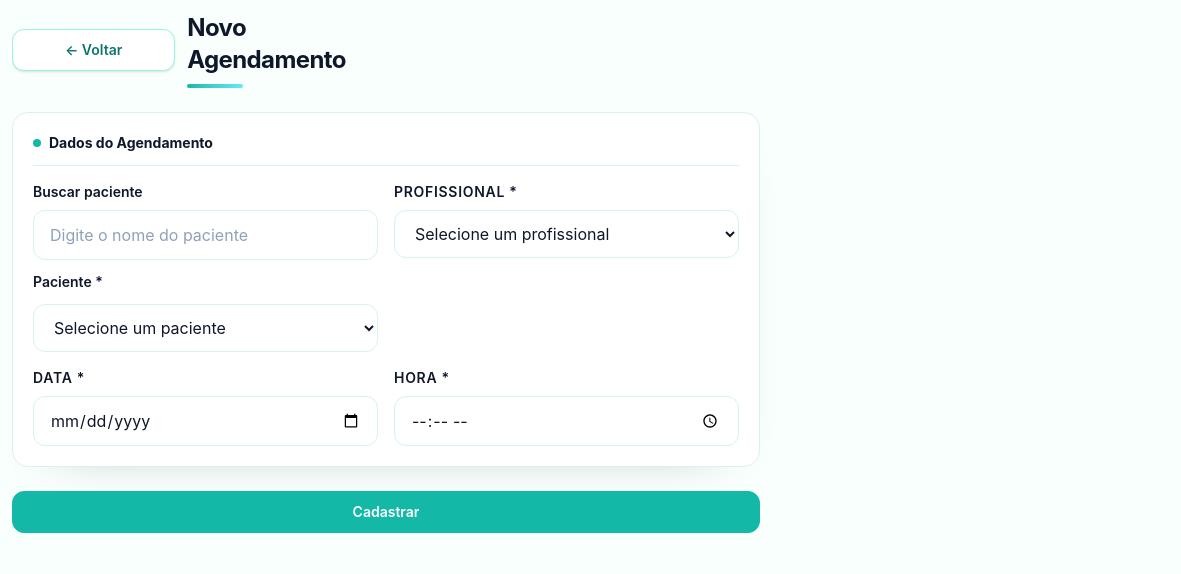
Test: avisa sobre horário ocupado antes de enviar o agendamento
Select "Dra. Ana" in the dropdown labelled "Profissional *": [566, 234] box [394,210,739,258]
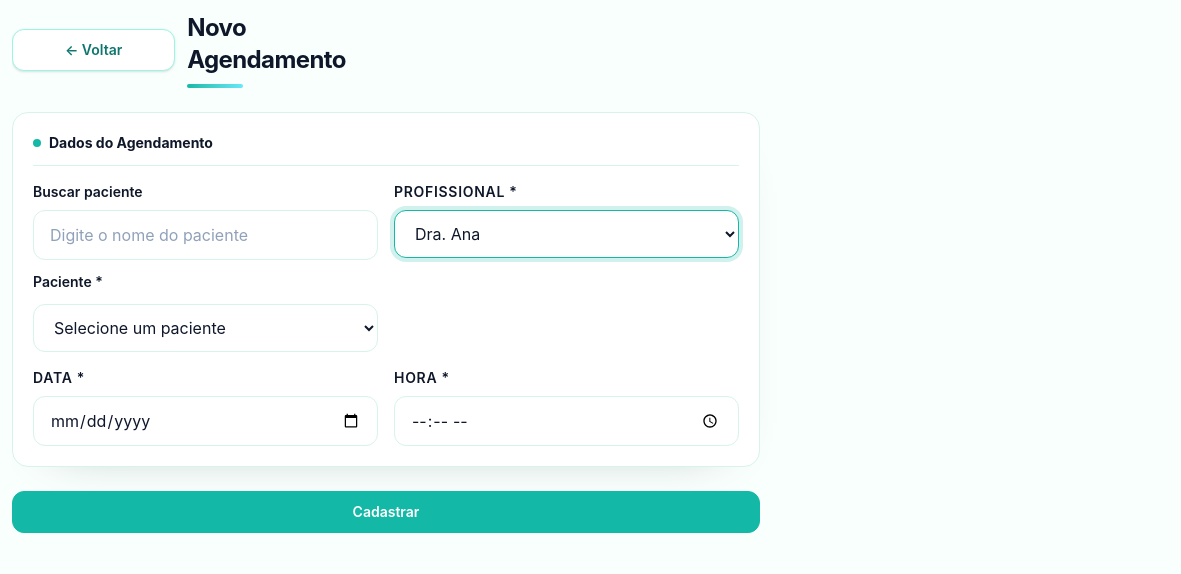
In the date field labelled "Data *": [206, 421] box [33,396,378,446], type "2026-09-28"
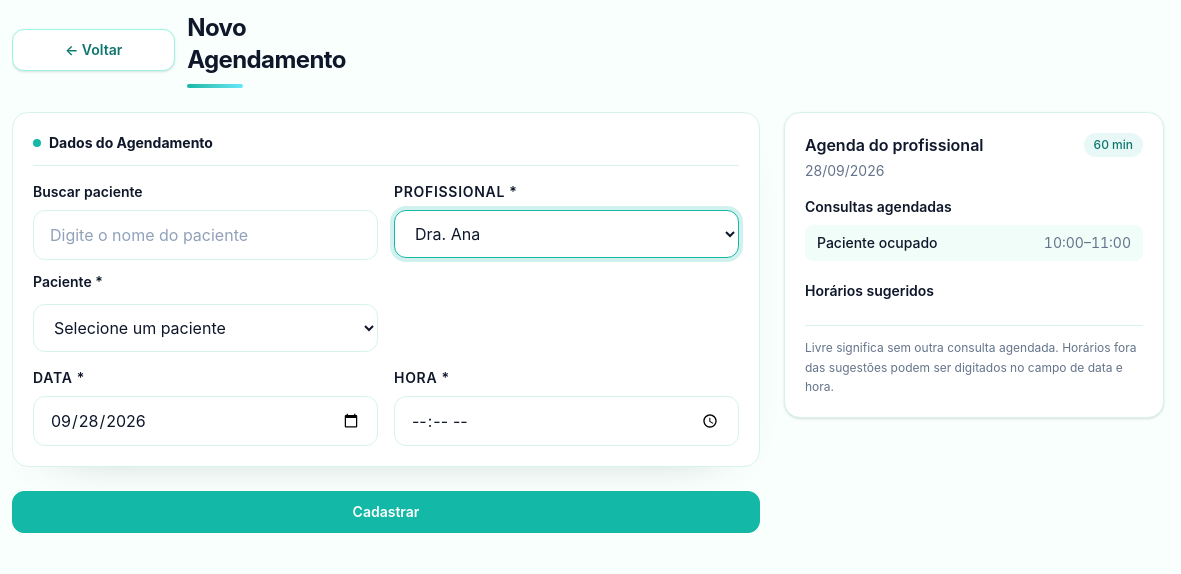
expect the text "Paciente ocupado" is shown: met, box [817,233,938,253]
In the time field labelled "Hora *": [566, 421] box [394,396,739,446], type "10:30"
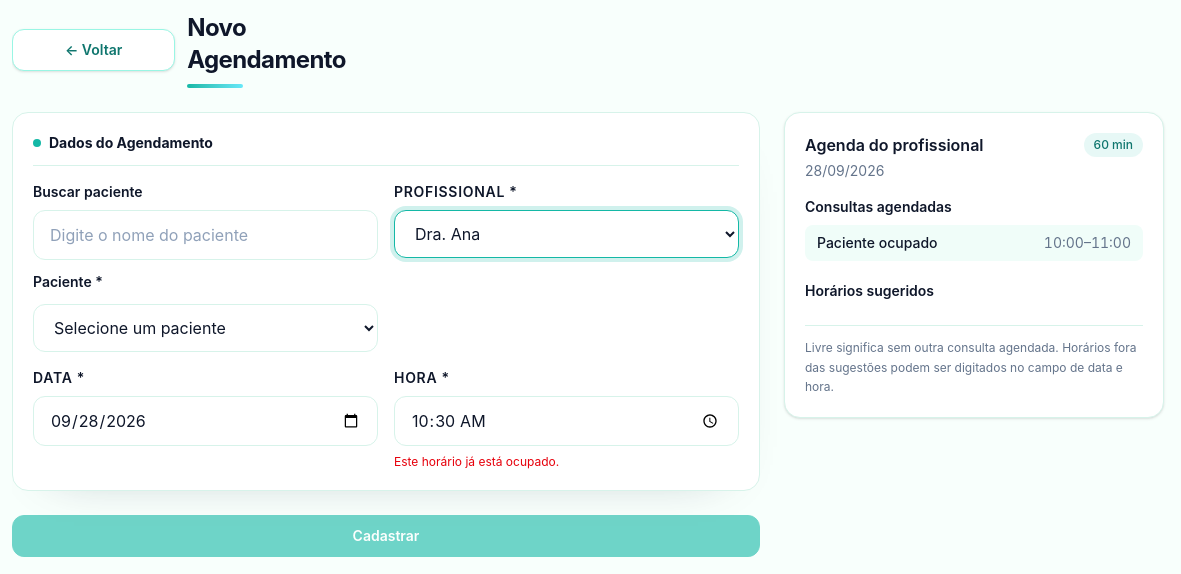
expect the text "Este horário já está ocupado." is shown: met, box [394,454,559,469]
expect the button "Cadastrar" is disabled: met, box [12,515,760,557]
